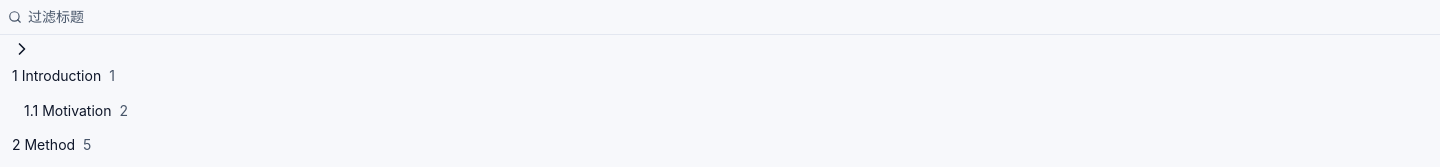
outline panel › filters a long book's headings by title
Type "motiv" into the field labelled "过滤标题" at (730, 17), box [28, 6, 1432, 28]
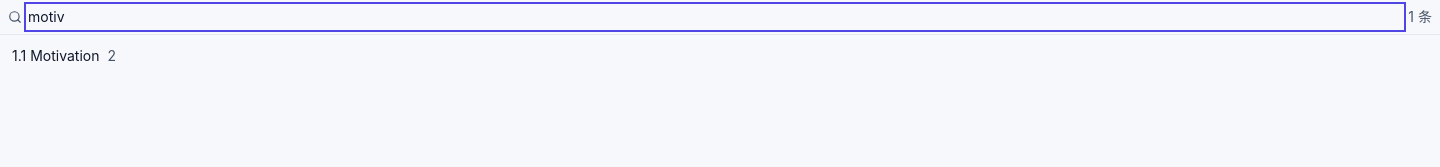
Check: the button "1.1 Motivation 2" is shown, box [12, 39, 116, 74]
Check: the button "2 Method" is gone
Check: the text "1 条" is shown, box [1408, 6, 1432, 28]
